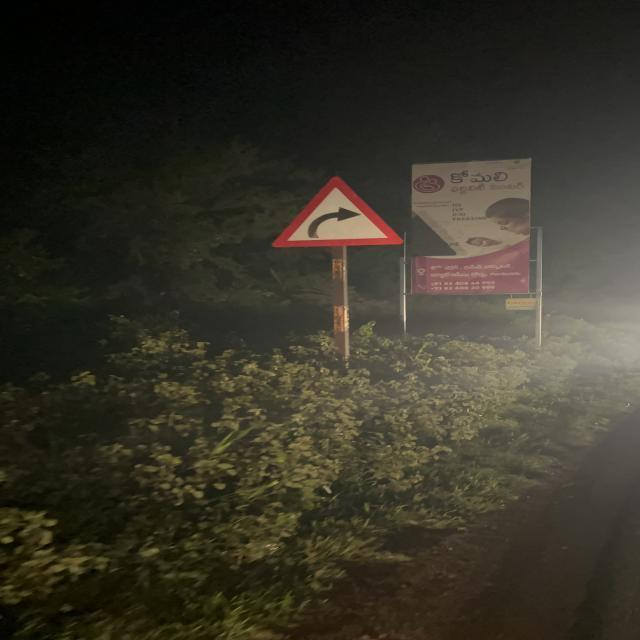right hand curve: (270, 173, 407, 250)
